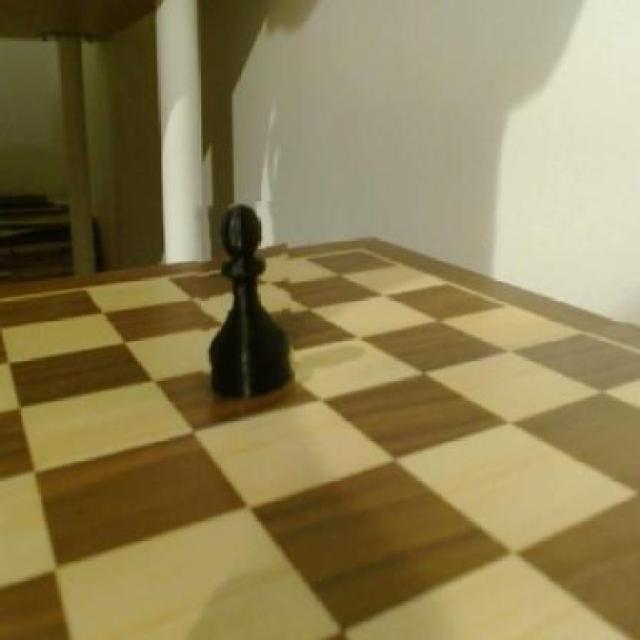black-knight: (195, 202, 293, 406)
